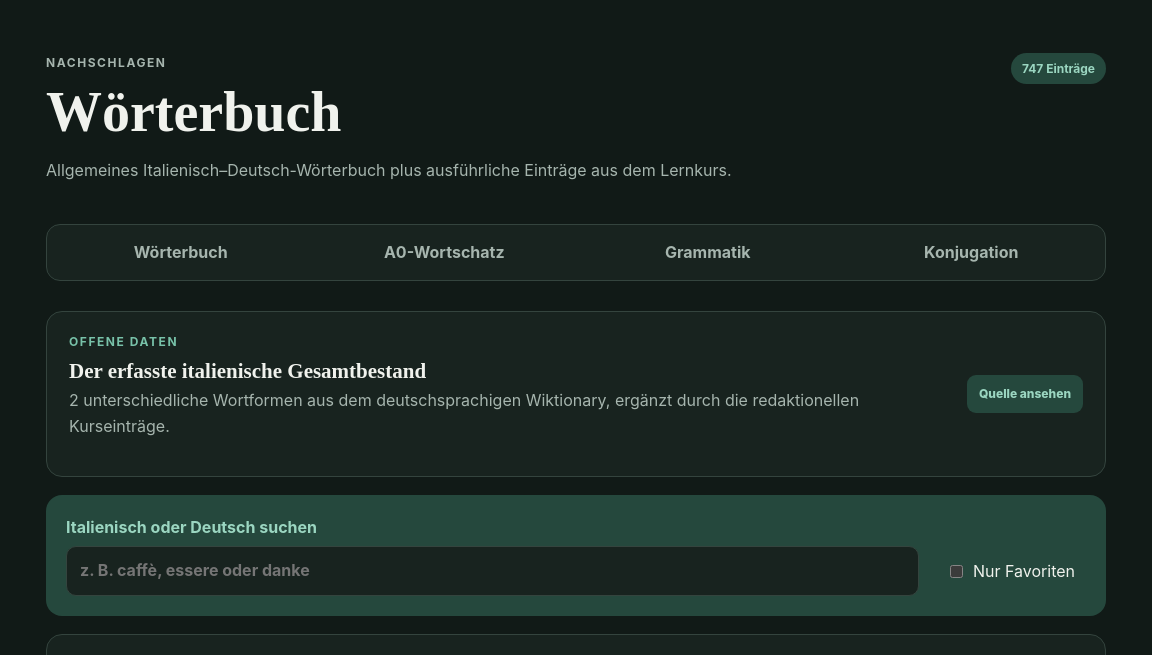
Nachschlagebereiche › lädt den allgemeinen offenen Bestand und durchsucht Formen und Übersetzungen
The width and height of the screenshot is (1152, 655).
Expected: the text "2 unterschiedliche Wortformen aus dem deutschsprachigen Wiktionary, ergänzt durch die redaktionellen Kurseinträge." is shown, [69, 390, 859, 436]
In the search field: (492, 571) [66, 546, 919, 596], type "Kaffee"
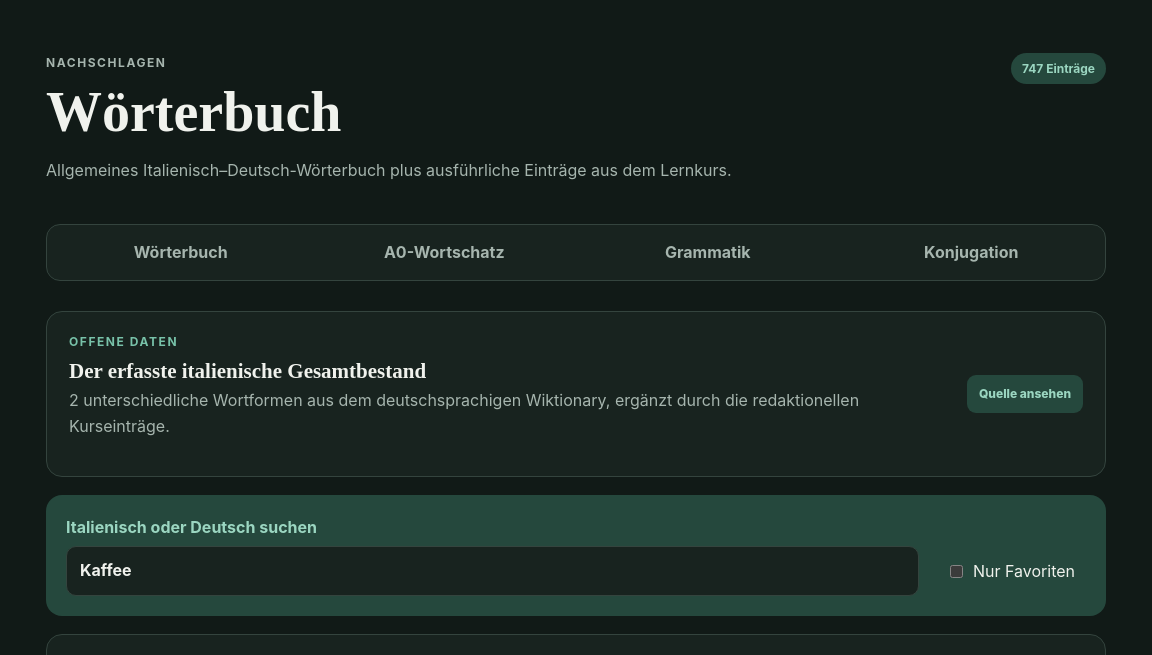
Replace the text in the search field with "essere": (492, 571) [66, 546, 919, 596]
(page scrolled)
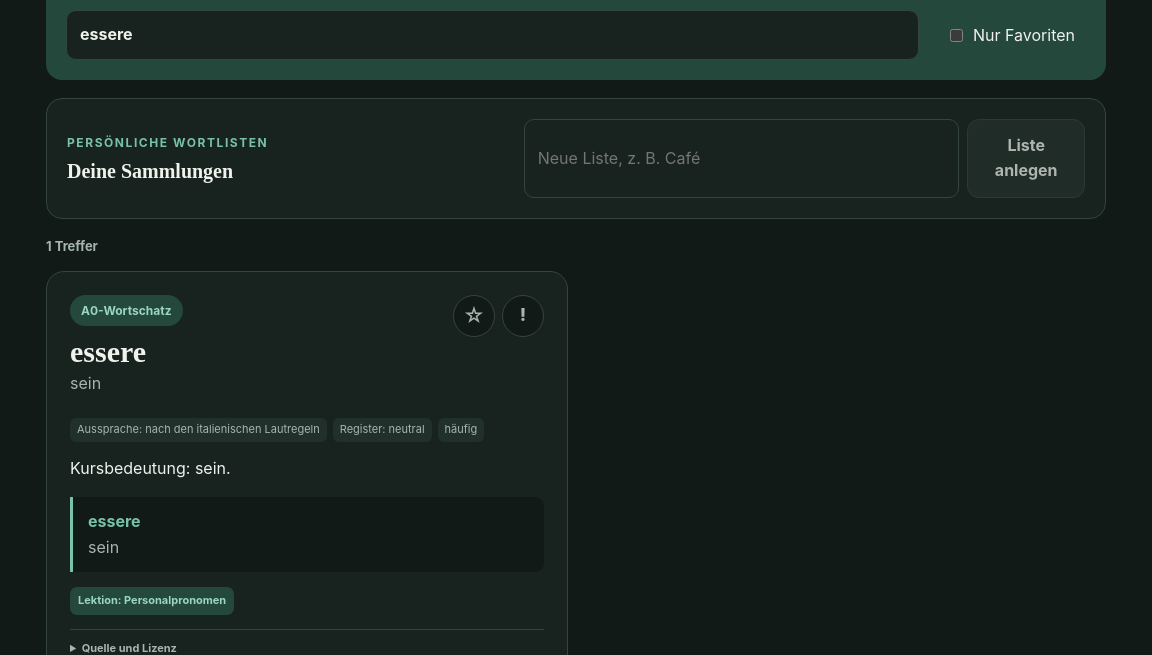
Result: the heading "essere" is shown at [70, 335, 146, 368]
